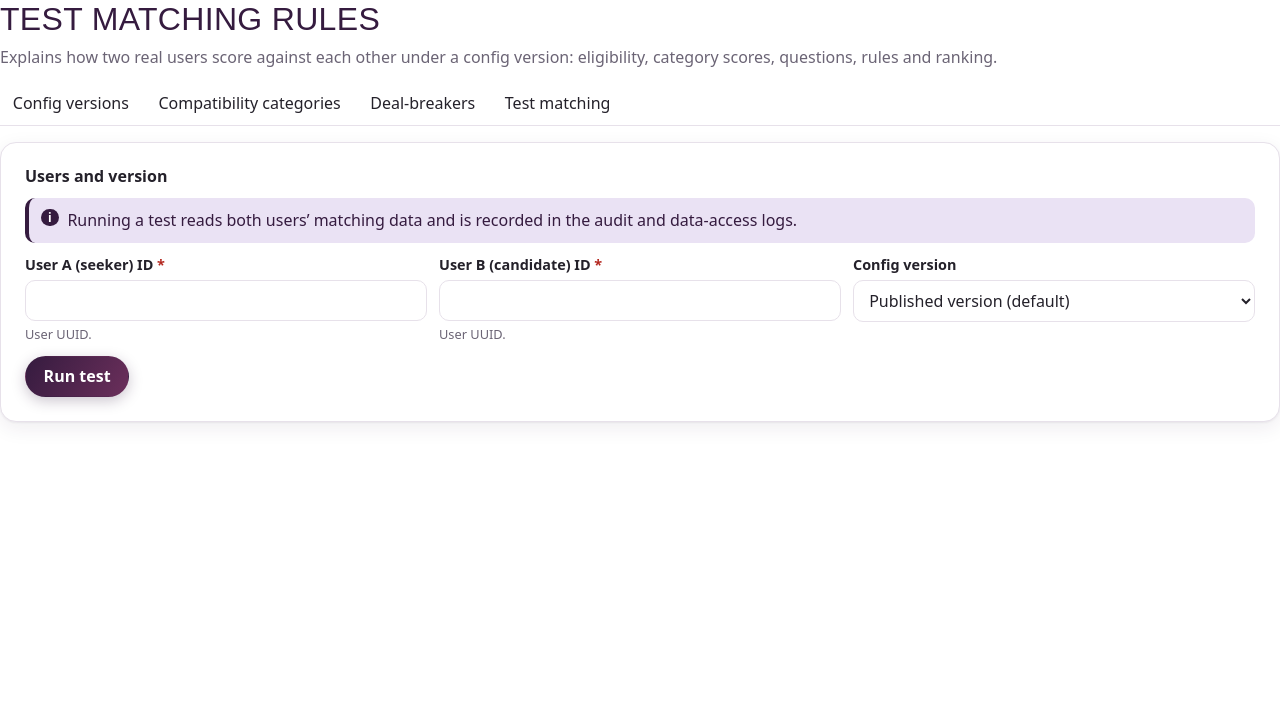
MatchTestPage › defaults to the published version and explains exclusions
The width and height of the screenshot is (1280, 720).
Type "44444444-4444-4444-8444-444444444444" into the field labelled "User A (seeker) ID *" at (226, 301), box [25,280,427,321]
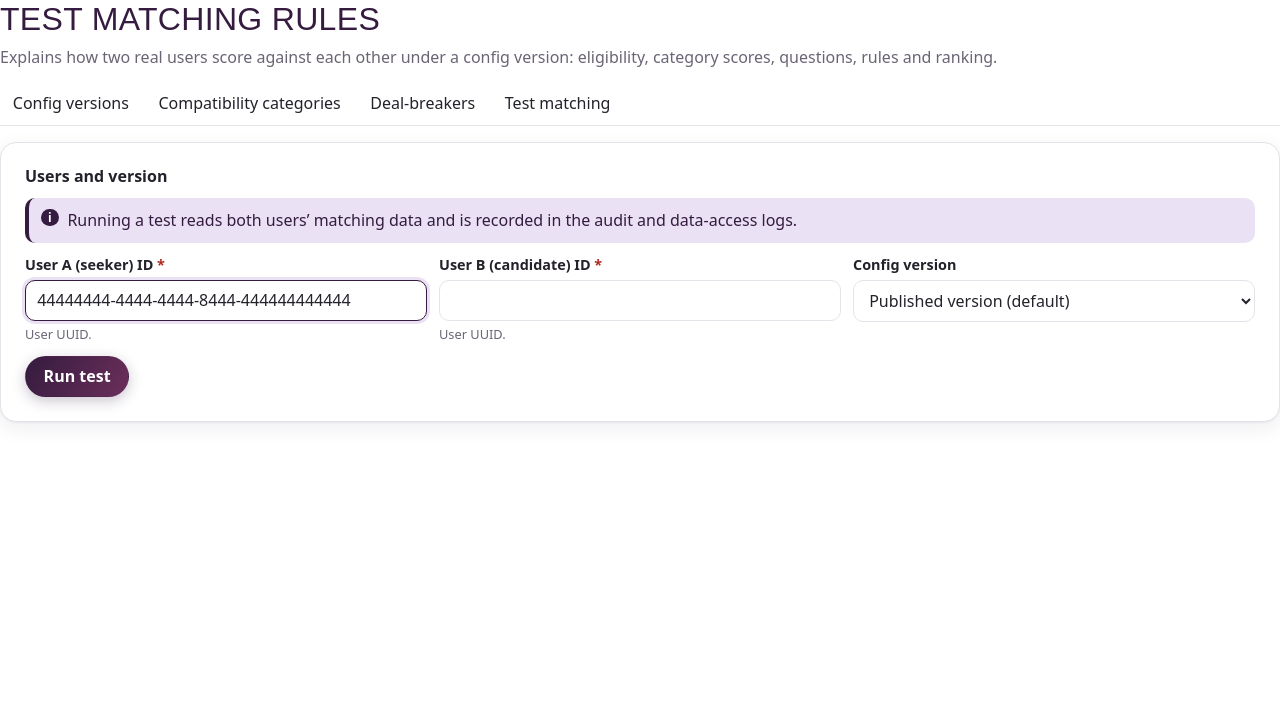
Type "55555555-5555-4555-8555-555555555555" into the field labelled "User B (candidate) ID *" at (640, 301), box [439,280,841,321]
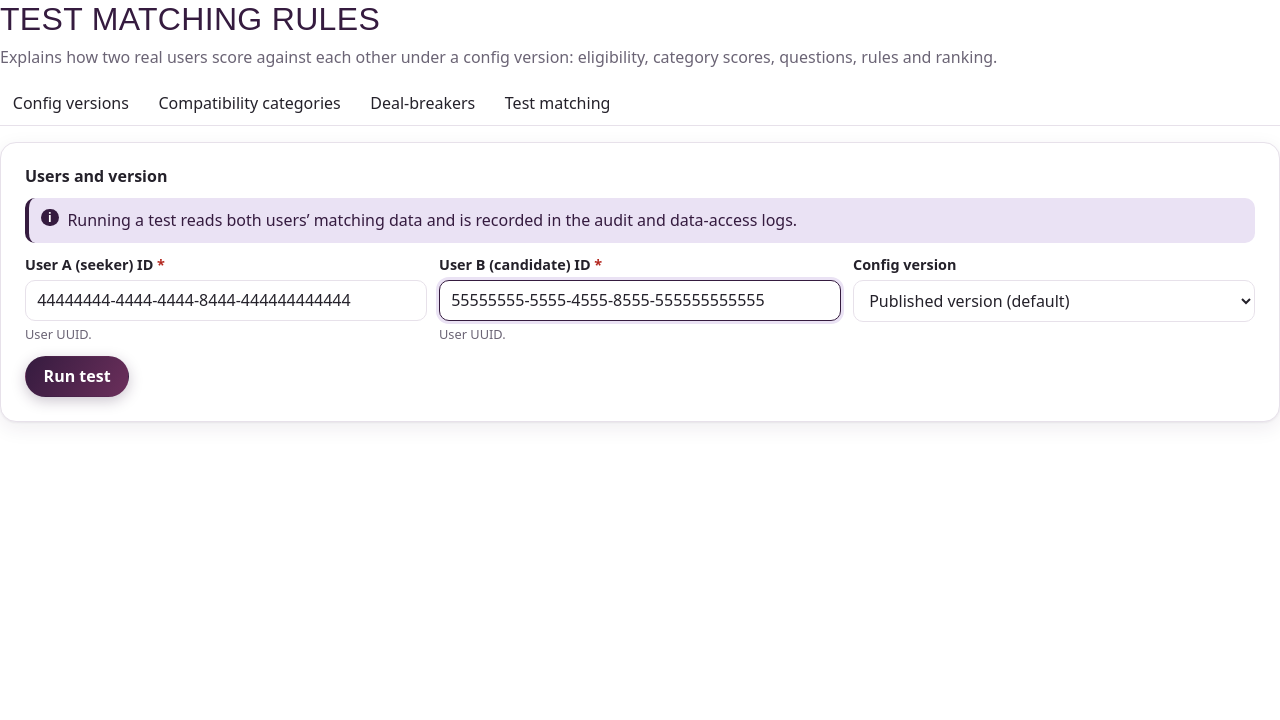
Click the button "Run test" at (77, 376), box [25,356,129,397]
(page scrolled)
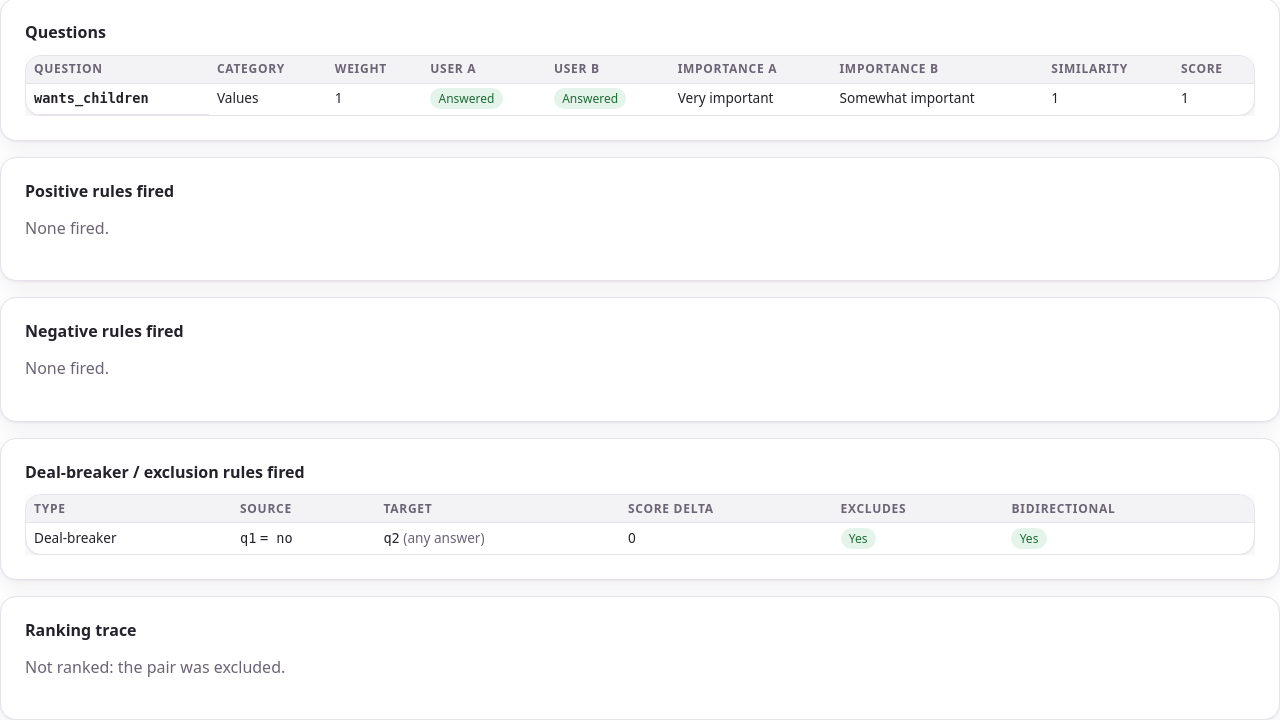
Result: the text "Not ranked: the pair was excluded." is shown at [25,656,285,678]
Result: the text "Deal-breaker" is shown at [26,523,232,554]
